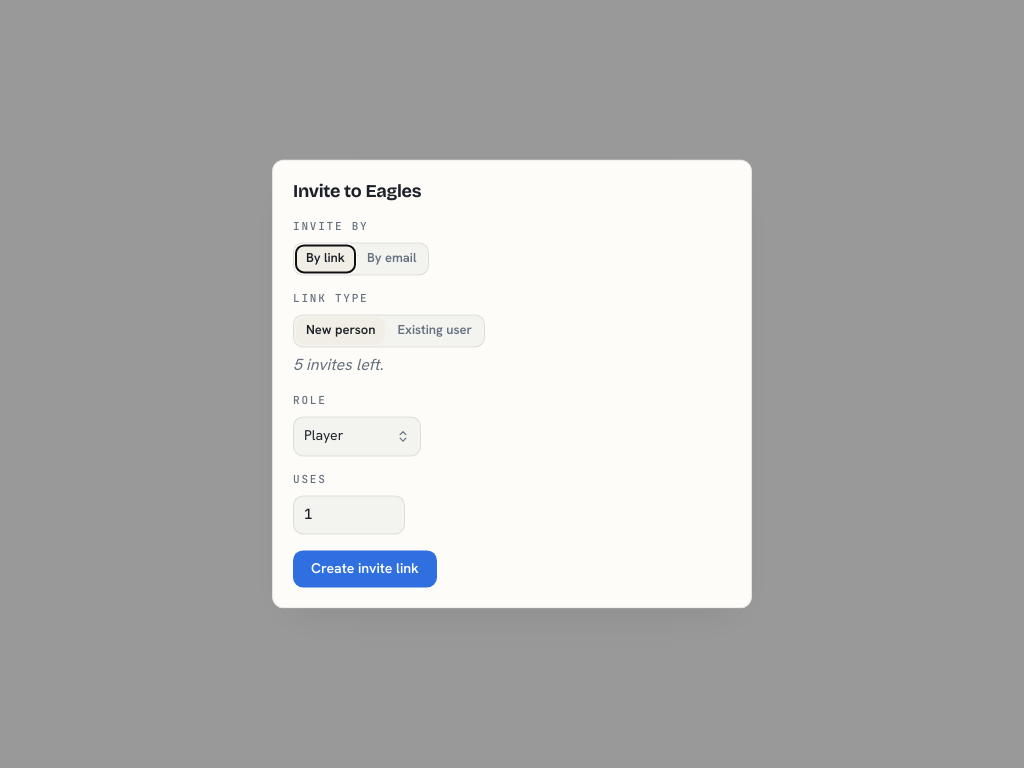
InviteDialog, By link › mints a single-use link by default
Click the button "Create invite link" at (365, 569), box [293,550,437,588]
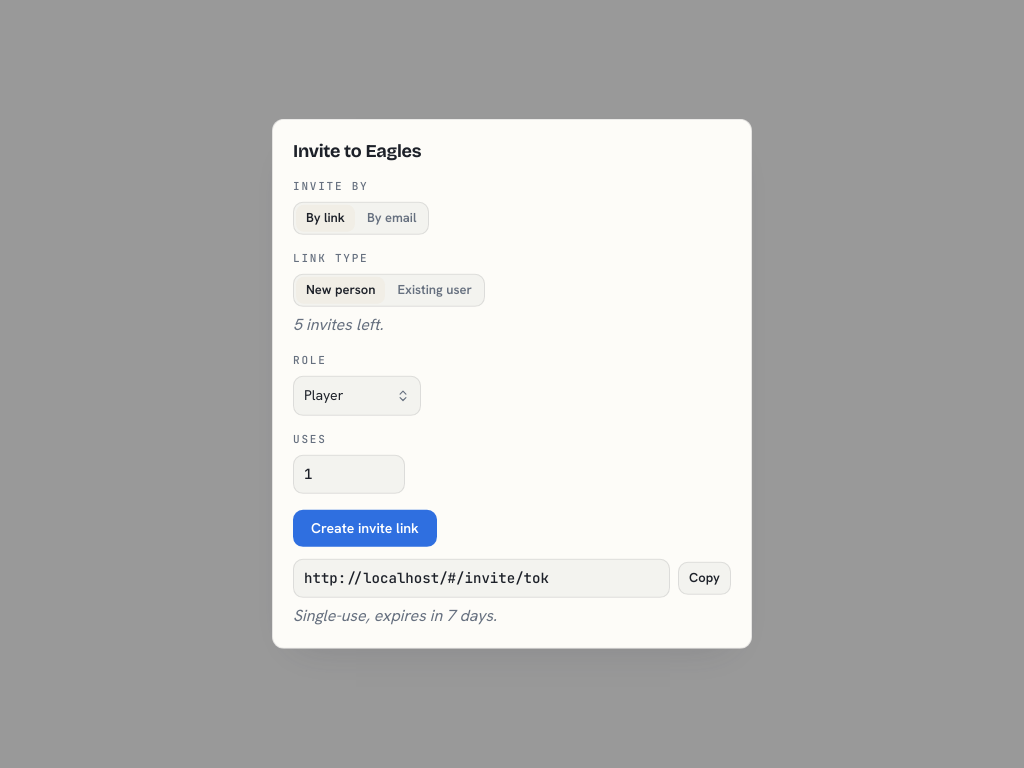
Check: the text "Single-use, expires in 7 days." is shown, box [293,605,497,626]
